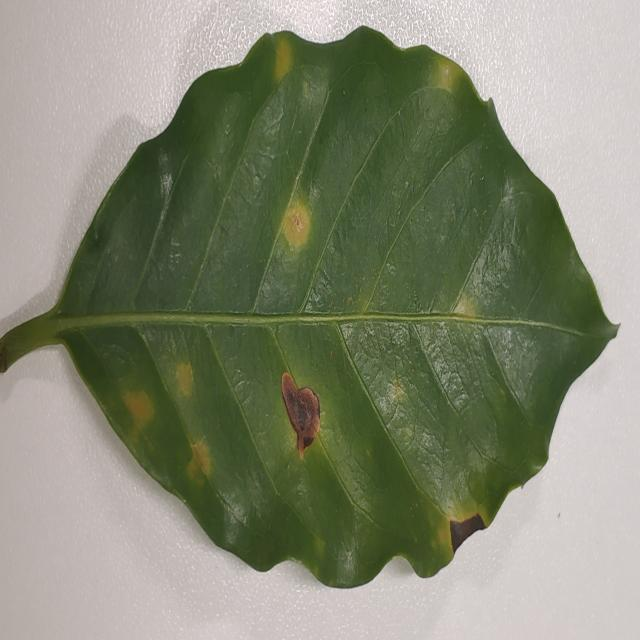Enfermedad-Roya: (0, 27, 620, 592)
